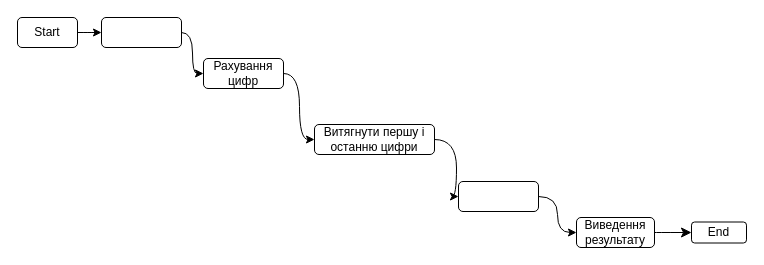
Image size: 764x265. Some labels were removed from this diagram. The shapes that lost their labels are listed below. From the top down, each one's centre as x and y in pixels, then its label:
At point 141,32: "Введення N".
At point 498,196: "Перемістити цифри".
